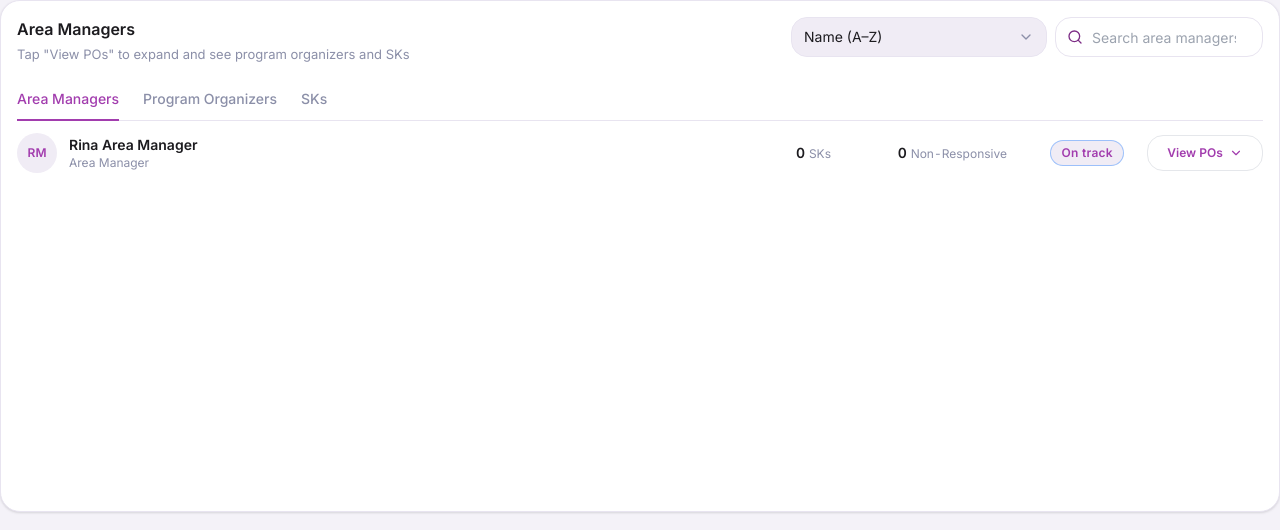
Scenario: TeamHierarchySection › refetches team activity with date and geography params
The width and height of the screenshot is (1280, 530).
Expected: the text "Non-Responsive" is shown, top-left (911, 146), bottom-right (1007, 160)
Click the button "Name (A–Z)" at (919, 37), box top-left (791, 17), bottom-right (1047, 57)
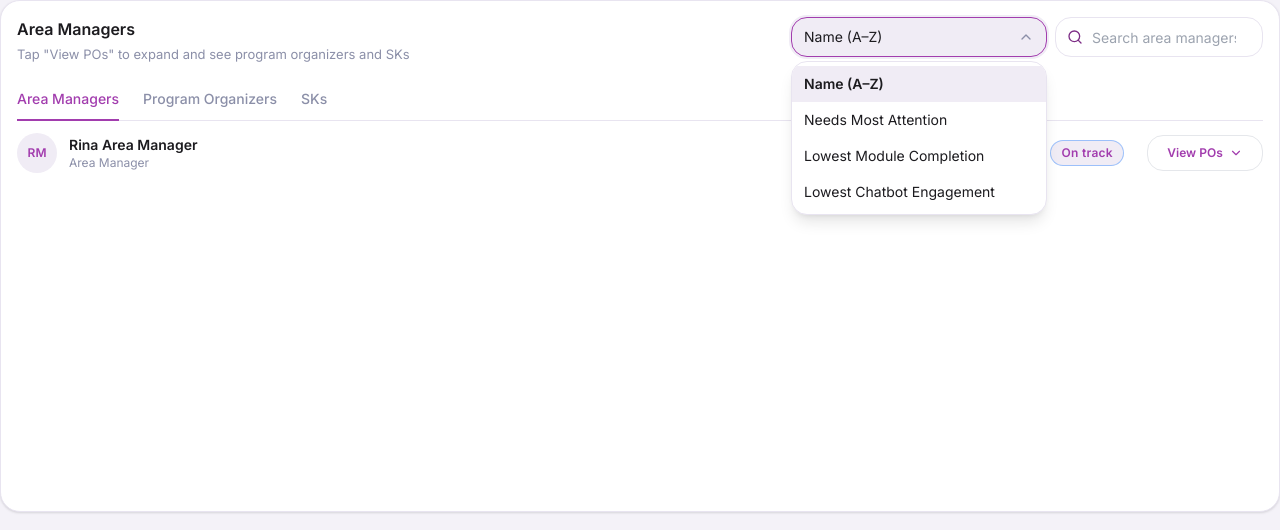
Result: the option "Needs Most Attention" is shown at top-left (804, 111), bottom-right (947, 128)
